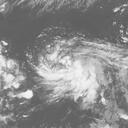cyclone: (32, 36, 105, 109)
